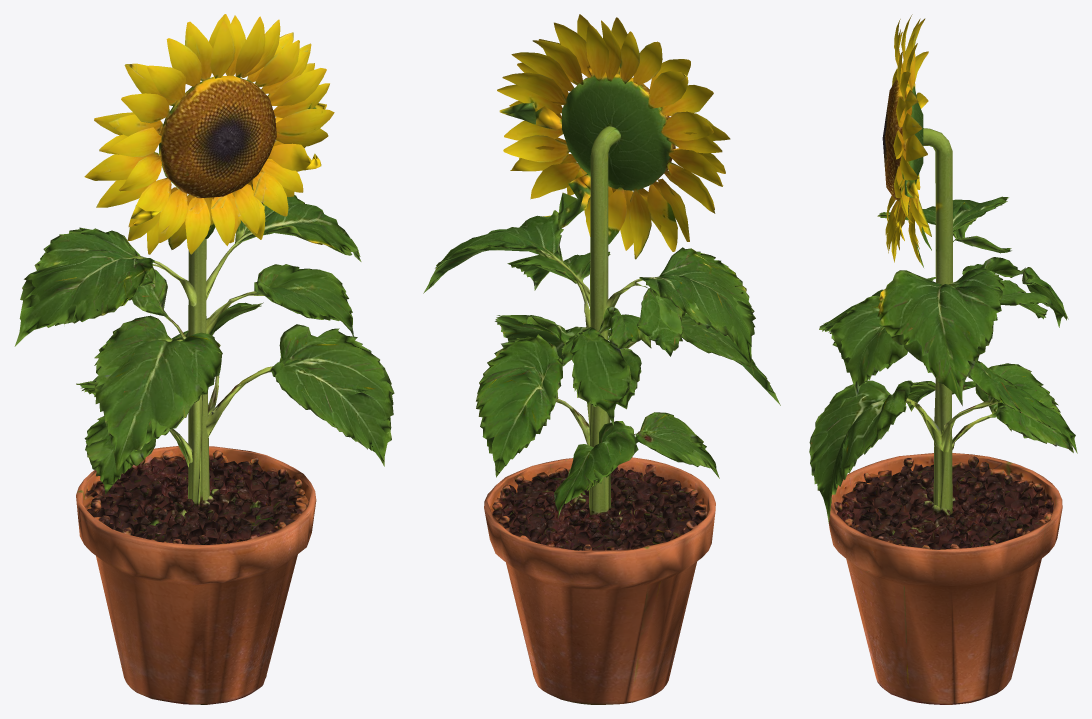
The model's file is sunflower.glb.
The picture shows the model from 3 angles, left to right: view 1: azimuth 30°, elevation 25°; view 2: azimuth 150°, elevation 25°; view 3: azimuth 270°, elevation 25°; orthographic projection. The views are drawn at different scales.
Bounding box in the file's own units: 1.08 × 2 × 0.7478.
1 material, 1 textured.
